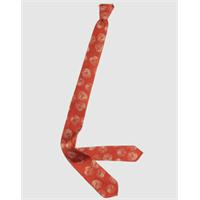tie: (60, 4, 143, 198)
